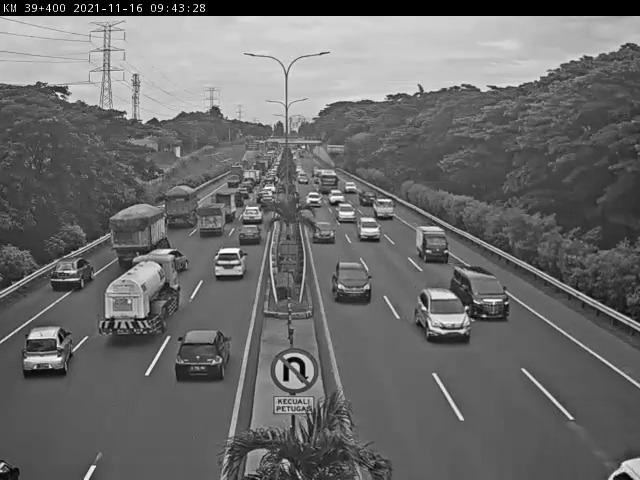big bus: (321, 170, 333, 190)
car: (172, 326, 235, 384), (20, 319, 77, 381), (451, 265, 511, 323), (416, 286, 472, 344), (37, 250, 92, 301), (331, 261, 373, 306), (213, 242, 245, 282), (420, 232, 444, 258), (238, 227, 260, 249), (239, 207, 260, 225), (369, 195, 387, 212), (314, 221, 331, 238), (360, 222, 376, 240), (354, 185, 370, 202), (327, 186, 341, 201), (335, 202, 349, 216), (262, 194, 273, 211), (342, 181, 355, 194), (307, 190, 319, 203)
truck-l-: (109, 204, 172, 267), (163, 183, 196, 228)
truck-m-: (96, 248, 185, 338), (196, 201, 224, 240), (211, 191, 237, 222)
